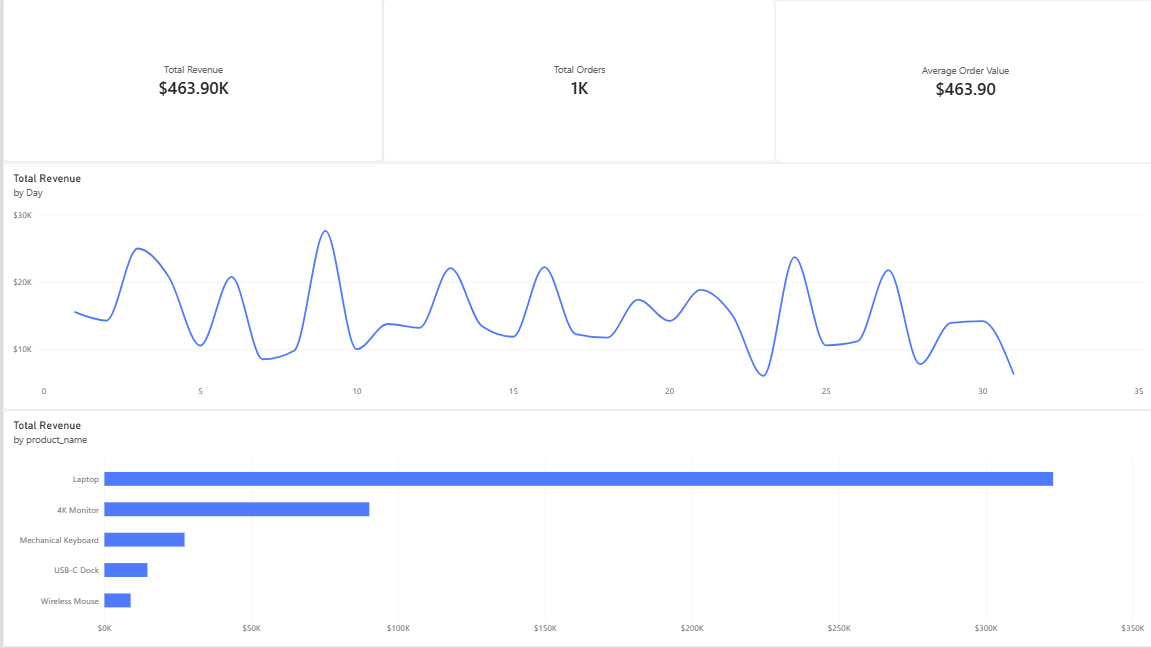

This screenshot's page, from the dashboard's own definition file:
{"tool":"powerbi","page":{"name":"Page 1","canvas":[1920,1080],"ordinal":0},"visuals":[{"type":"cardVisual","fields":{"Data":["fact_orders.Total Revenue"]},"box":[0,0,633.2,271.4],"z":0},{"type":"cardVisual","fields":{"Data":["fact_orders.Total Orders"]},"box":[633.2,0,653.6,271.4],"z":1000},{"type":"cardVisual","fields":{"Data":["fact_orders.Average Order Value"]},"box":[1286.8,1.5,633,271],"z":2000},{"type":"lineChart","fields":{"Category":["fact_orders.order_timestamp.Variation.Date Hierarchy.Day"],"Y":["fact_orders.Total Revenue"]},"box":[0,272.8,1920,411.4],"z":3000},{"type":"clusteredBarChart","fields":{"Category":["fact_orders.product_name"],"Y":["fact_orders.Total Revenue"]},"box":[0,684.3,1920,395.4],"z":3001}]}

Visuals, with their boxes in screenshot pixels (x1, y1, x2, y2), scaled from the page's 1920x1080 canvas onto the 1151x648 screenshot:
cardVisual - fact_orders.Total Revenue: Rect(0, 0, 380, 163)
cardVisual - fact_orders.Total Orders: Rect(380, 0, 771, 163)
cardVisual - fact_orders.Average Order Value: Rect(771, 1, 1150, 164)
lineChart - fact_orders.order_timestamp.Variation.Date Hierarchy.Day x fact_orders.Total Revenue: Rect(0, 164, 1150, 411)
clusteredBarChart - fact_orders.product_name x fact_orders.Total Revenue: Rect(0, 411, 1150, 647)
